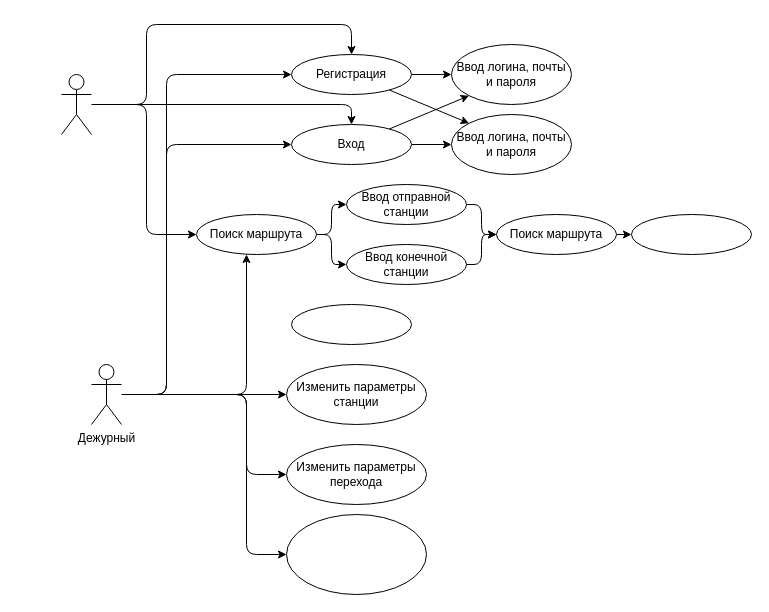
The diagram is 769 pixels wide and 612 high, and some of its shapes have lost their labels. The shapes that lost their labels are listed below. From the top down, each one's centre as x and y in pixels, then its label:
At point (76, 104): "(Не авторизованный/ авторизованный) пользователь".
At point (691, 234): "Сохранить в избранные".
At point (351, 324): "Просмотр истории".
At point (356, 554): "Изменить параметры переезда".
